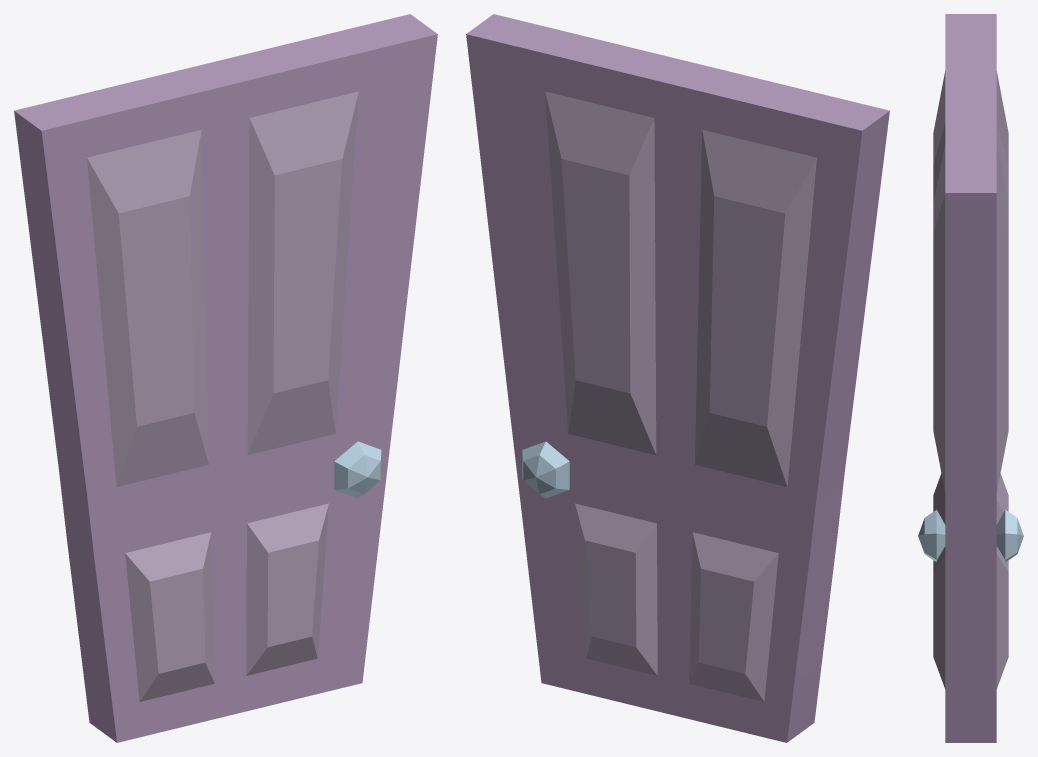
Rendered from DoorWAnimationOpen.fbx.
3 views of the same model, side by side, from view 1: azimuth 30°, elevation 25°; view 2: azimuth 150°, elevation 25°; view 3: azimuth 270°, elevation 25° (orthographic). The views are drawn at different scales.
Parts seen in each view (by area): view 1: pSphere2; view 2: pSphere2; view 3: pSphere2.
Boxes of the visible parts, box(x1,y1,x2,y2) form: pSphere2: box(14, 14, 437, 742); pSphere2: box(466, 14, 889, 742); pSphere2: box(918, 14, 1023, 742).
Bounding box in the file's own units: 4.67 × 7.1 × 1.17.
